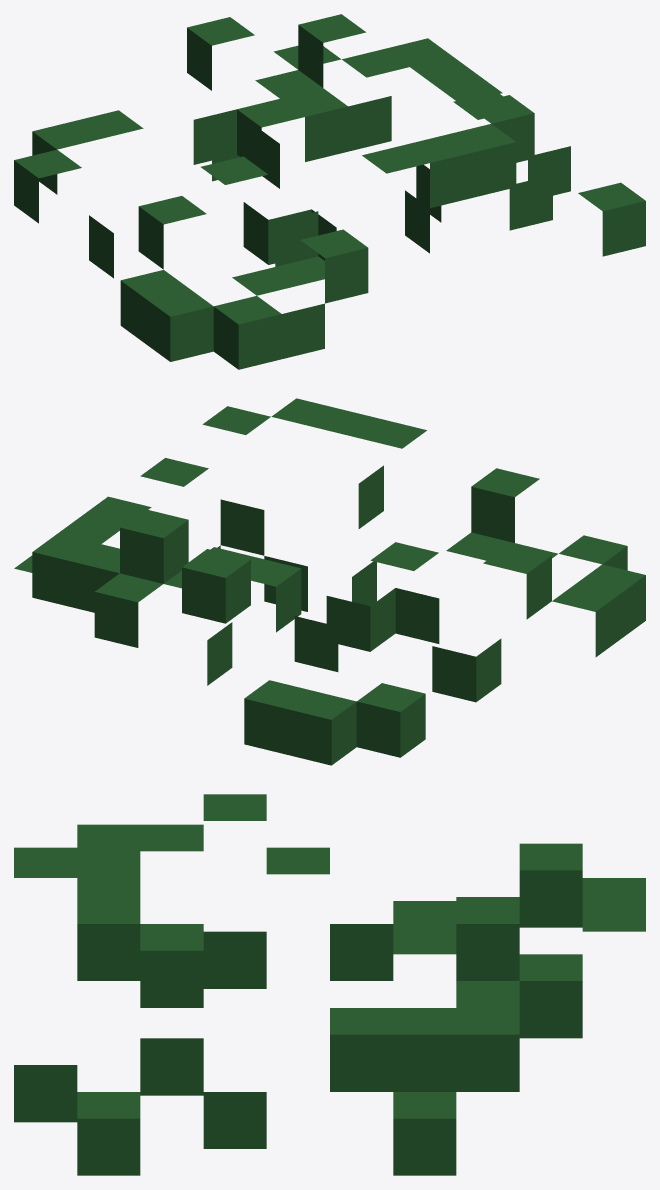
Rendered from tree-pine-1p2-28602f.gltf.
The picture shows the model from 3 angles, top to bottom: view 1: azimuth 30°, elevation 25°; view 2: azimuth 150°, elevation 25°; view 3: azimuth 270°, elevation 25°; orthographic projection. The views are drawn at different scales.
Visible parts, largest first — view 1: tree-pine-1p2-28602f; view 2: tree-pine-1p2-28602f; view 3: tree-pine-1p2-28602f.
Boxes of the visible parts, <box> form: tree-pine-1p2-28602f: <box>14,14,645,369</box>; tree-pine-1p2-28602f: <box>14,398,645,765</box>; tree-pine-1p2-28602f: <box>14,794,645,1175</box>.
Size of the model in its own units: 11 by 3 by 10.
